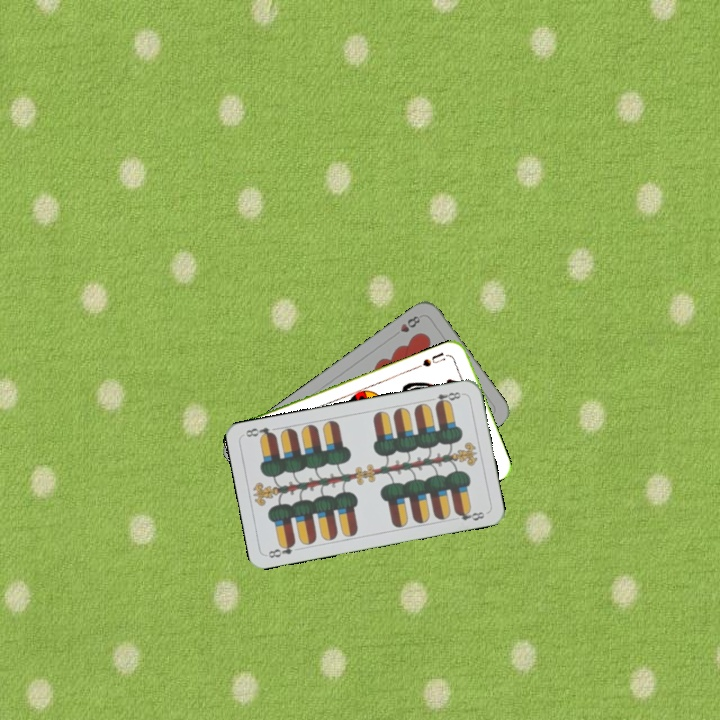E8: (426, 388, 466, 408), (264, 538, 298, 561)
H8: (389, 312, 423, 340)
SU: (419, 348, 452, 369)
